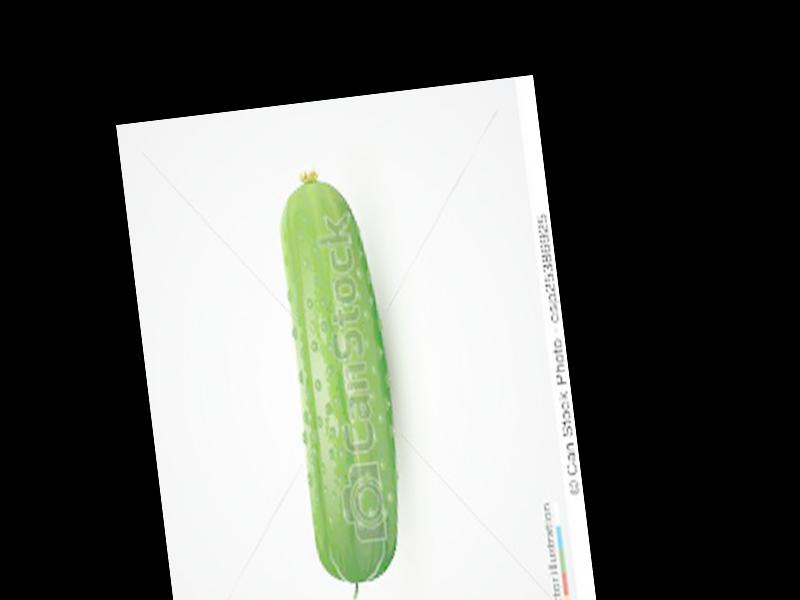Cucumber: (269, 162, 413, 600)
